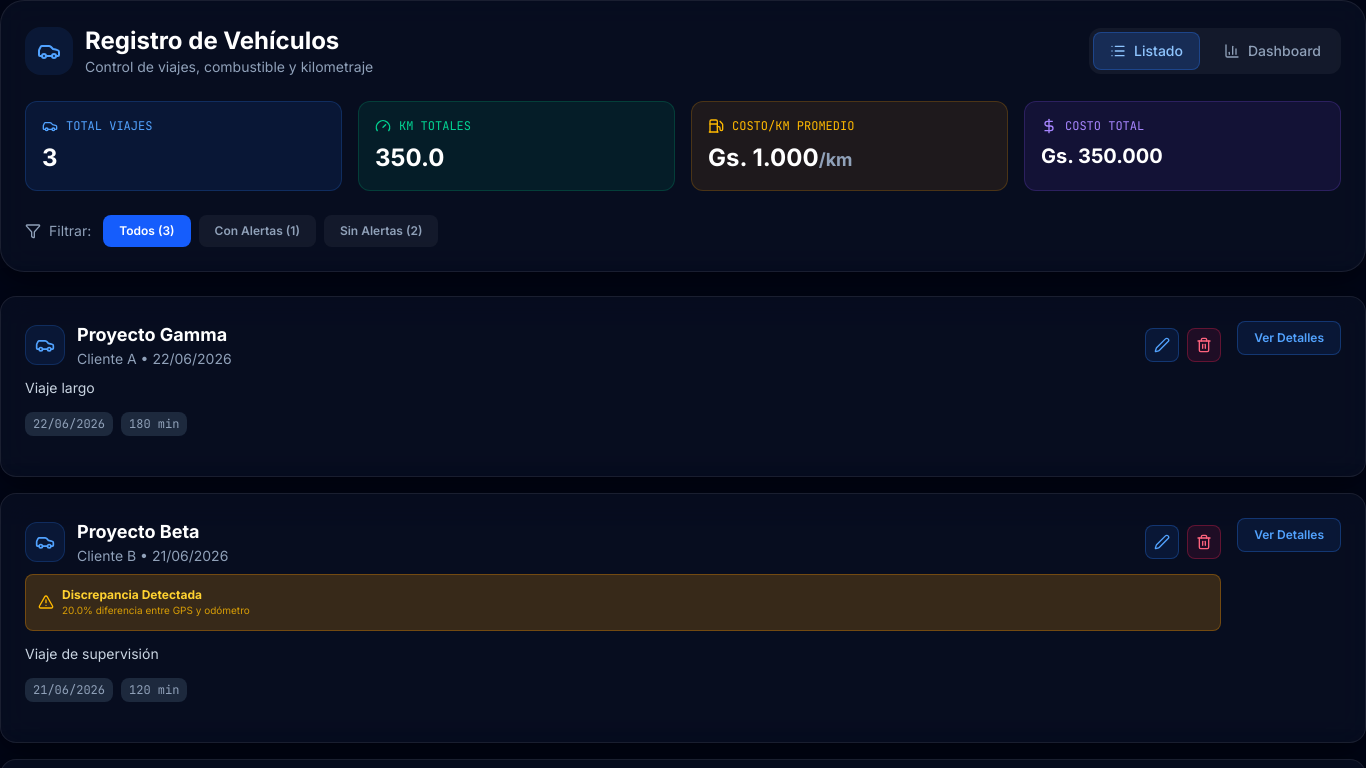
it: VehiculosAdminView › Edit Modal › closes modal on cancel
The image size is (1366, 768).
Click the button named "Editar viaje". click: {"x": 1162, "y": 345}
box: [1145,328,1179,362]
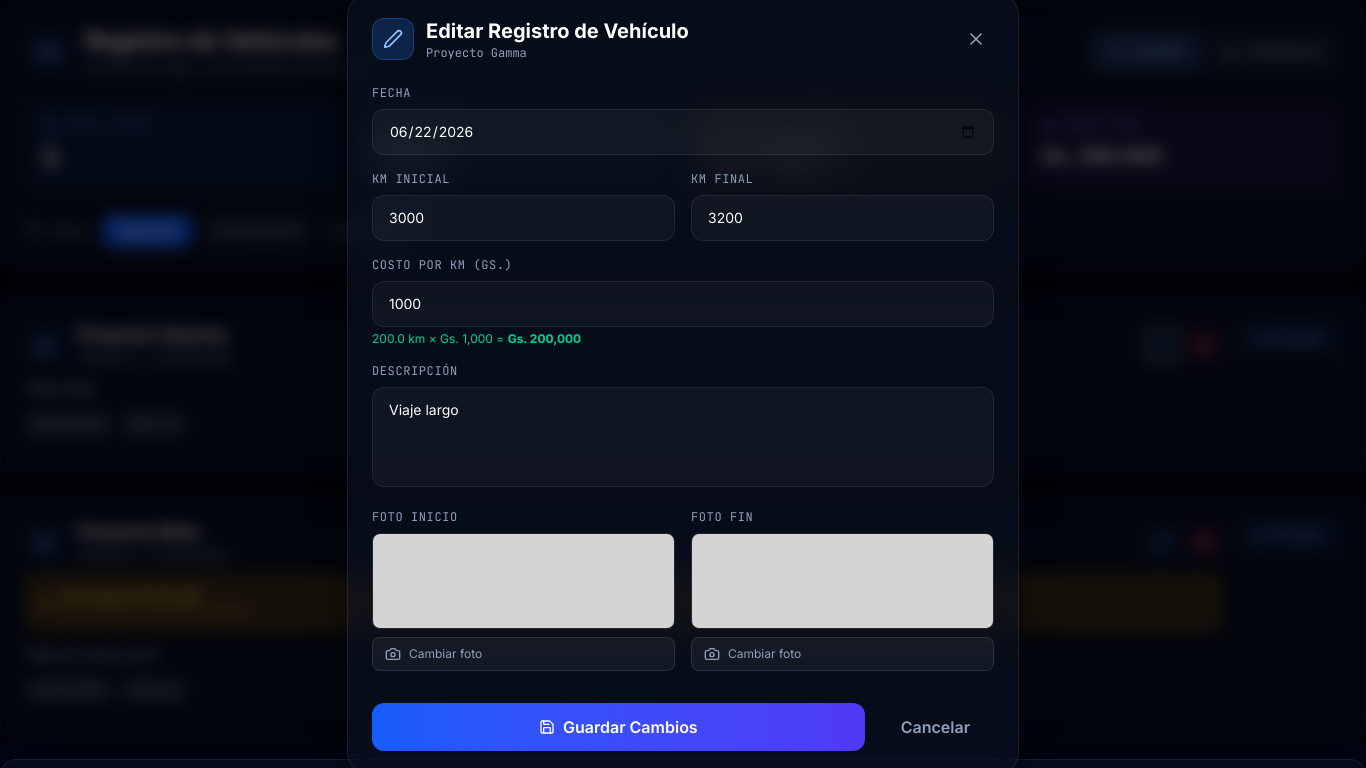
Click the button "Cancelar". click: {"x": 935, "y": 727}
box: [877,703,994,751]
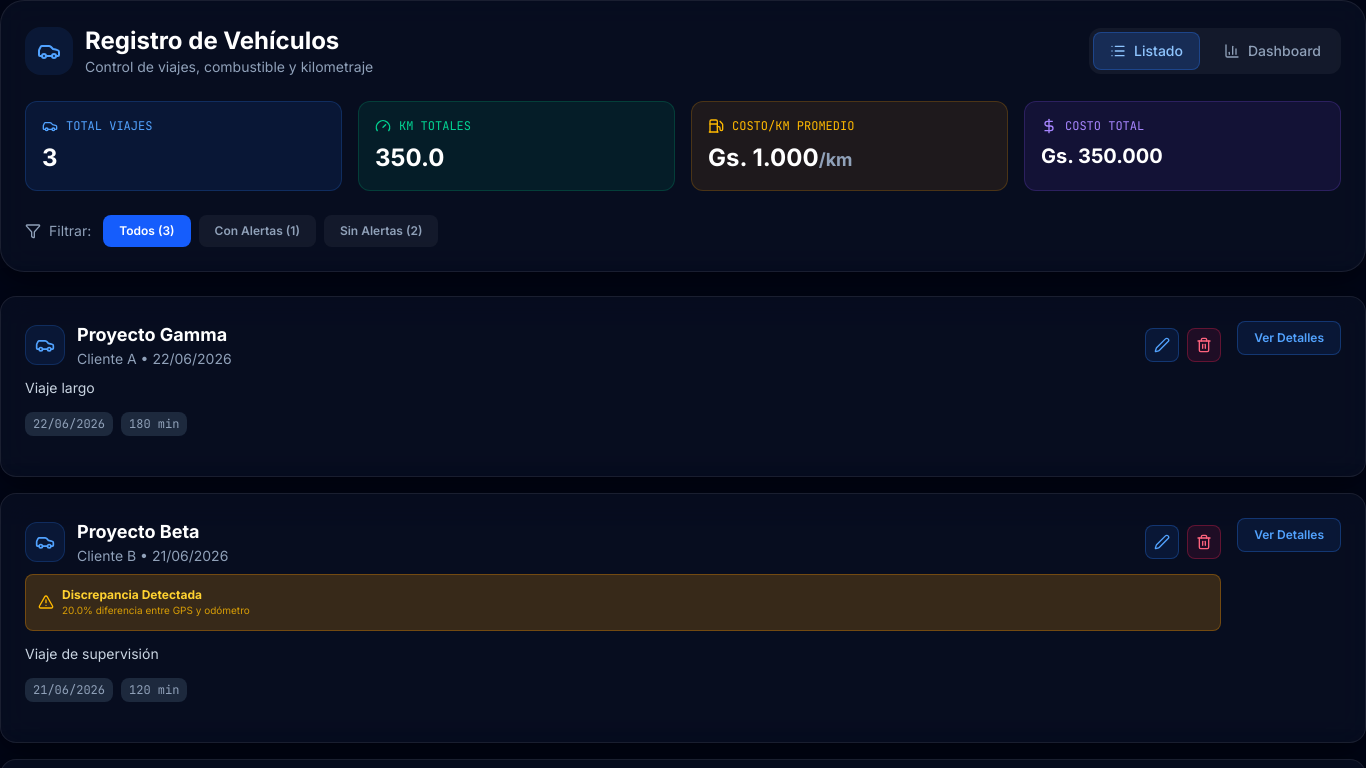
Expected: the heading "Editar Registro de Vehículo" is gone
